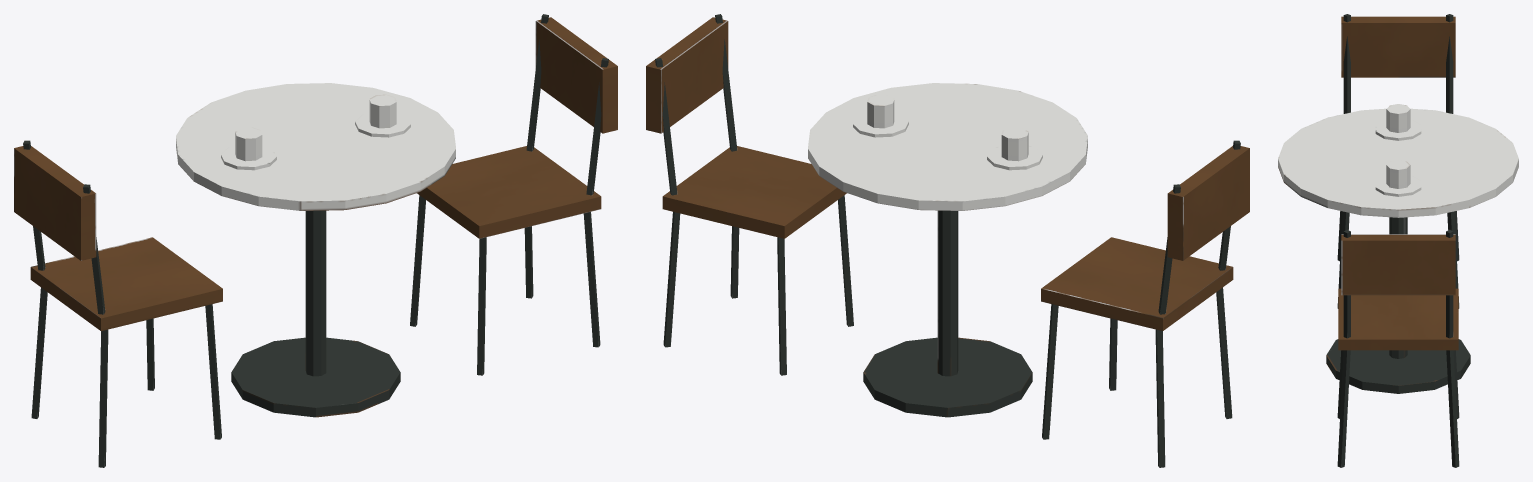
The model's file is stolek_kavarna_8347ab5e.glb.
The picture shows the model from 3 angles, left to right: view 1: azimuth 30°, elevation 25°; view 2: azimuth 150°, elevation 25°; view 3: azimuth 270°, elevation 25°; orthographic projection. The views are drawn at different scales.
Parts seen in each view (by area): view 1: dum; view 2: dum; view 3: dum.
Boxes of the visible parts, left/top/right/bottom form: dum: left=14, top=14, right=617, bottom=467; dum: left=646, top=14, right=1249, bottom=467; dum: left=1278, top=14, right=1518, bottom=467.
Size of the model in its own units: 1.76 by 0.8797 by 0.798.
1 material, 1 textured.
